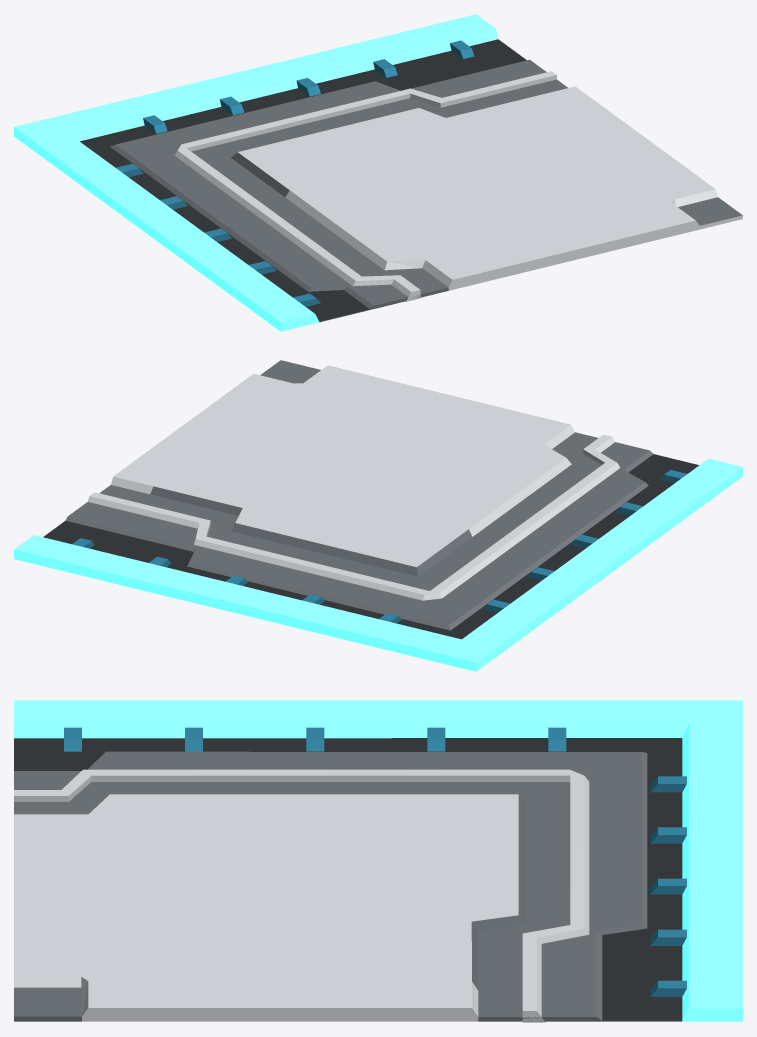
File: floor_corner-GWLaiF6R.glb
The picture shows the model from 3 angles, top to bottom: view 1: azimuth 30°, elevation 25°; view 2: azimuth 150°, elevation 25°; view 3: azimuth 270°, elevation 25°; orthographic projection. The views are drawn at different scales.
Visible parts, largest first — view 1: FloorTile_Corner; view 2: FloorTile_Corner; view 3: FloorTile_Corner.
Part boxes in pixels (x1,y1,x2,y2): FloorTile_Corner: (14, 14, 742, 331); FloorTile_Corner: (14, 360, 742, 671); FloorTile_Corner: (14, 700, 742, 1022).
Bounding box in the file's own units: 2 × 0.0615 × 2.
